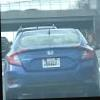License_Plate: (43, 59, 59, 66)
